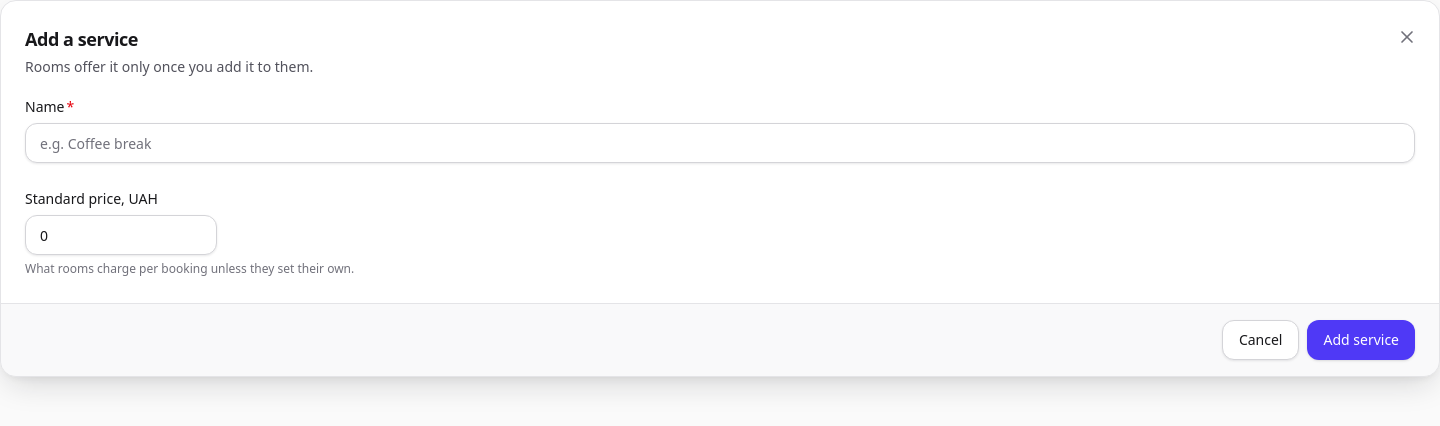
Test: ServiceFormDialogComponent › puts a taken name on the name field
The width and height of the screenshot is (1440, 426).
Type "wi-fi" into the field labelled "Name" at (720, 143), box [25,123,1415,163]
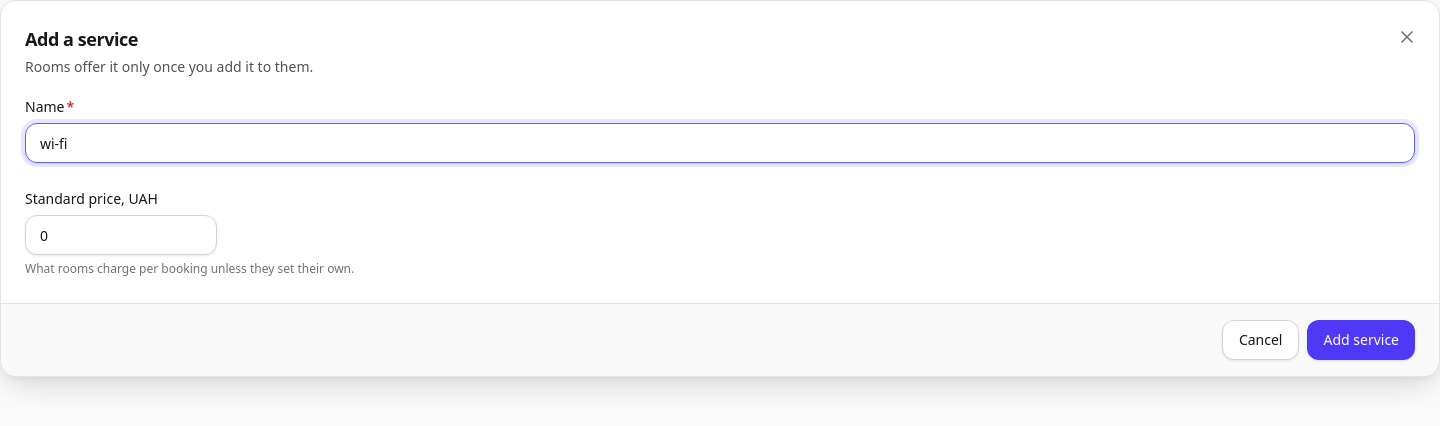
Replace the text in the number field labelled "Standard price, UAH" with "10" at (121, 235), box [25,215,217,255]
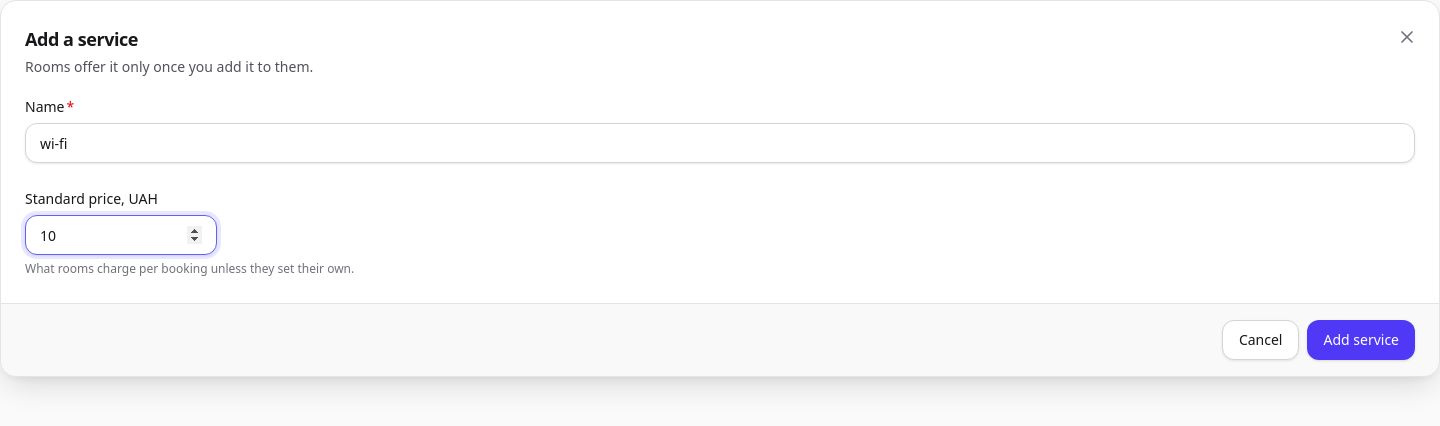
Click the button "Add service" at (1361, 340), box [1308,320,1415,360]
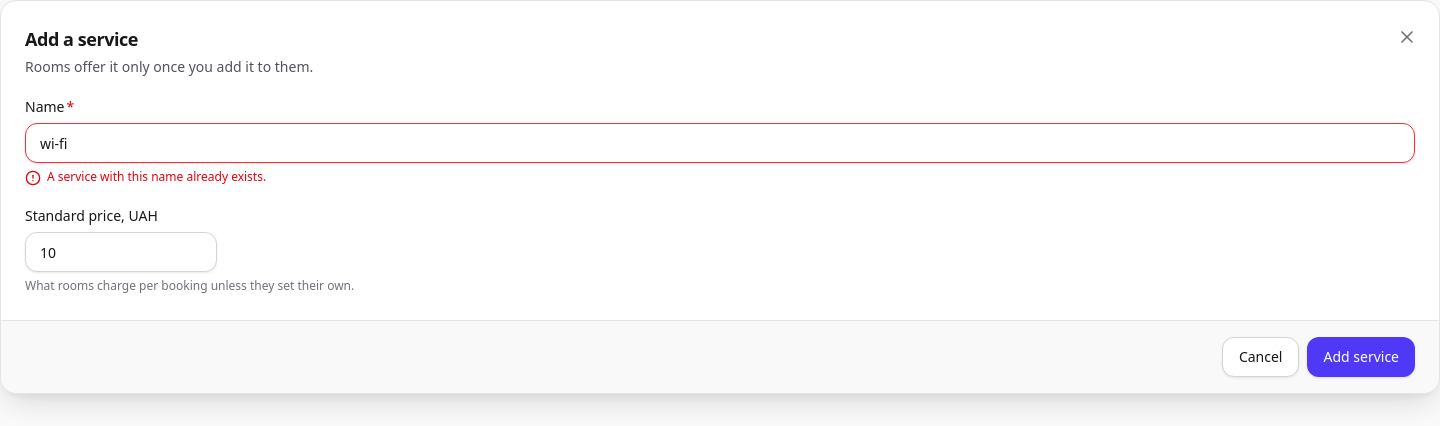
Check: the text "A service with this name already exists." is shown, box [25,168,266,186]
